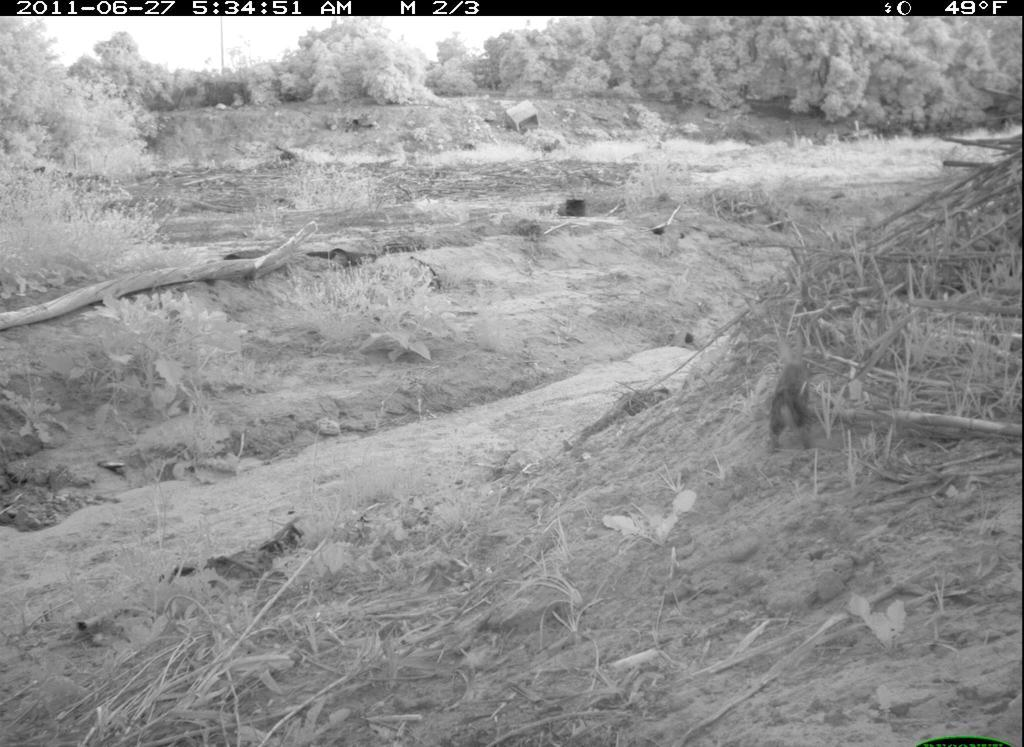rabbit: (765, 342, 827, 459)
